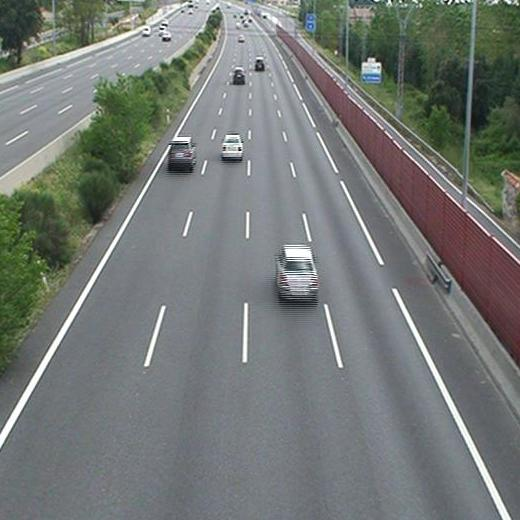car: (275, 245, 317, 298), (169, 138, 195, 163), (221, 135, 242, 157), (233, 68, 245, 82), (254, 58, 266, 69)
